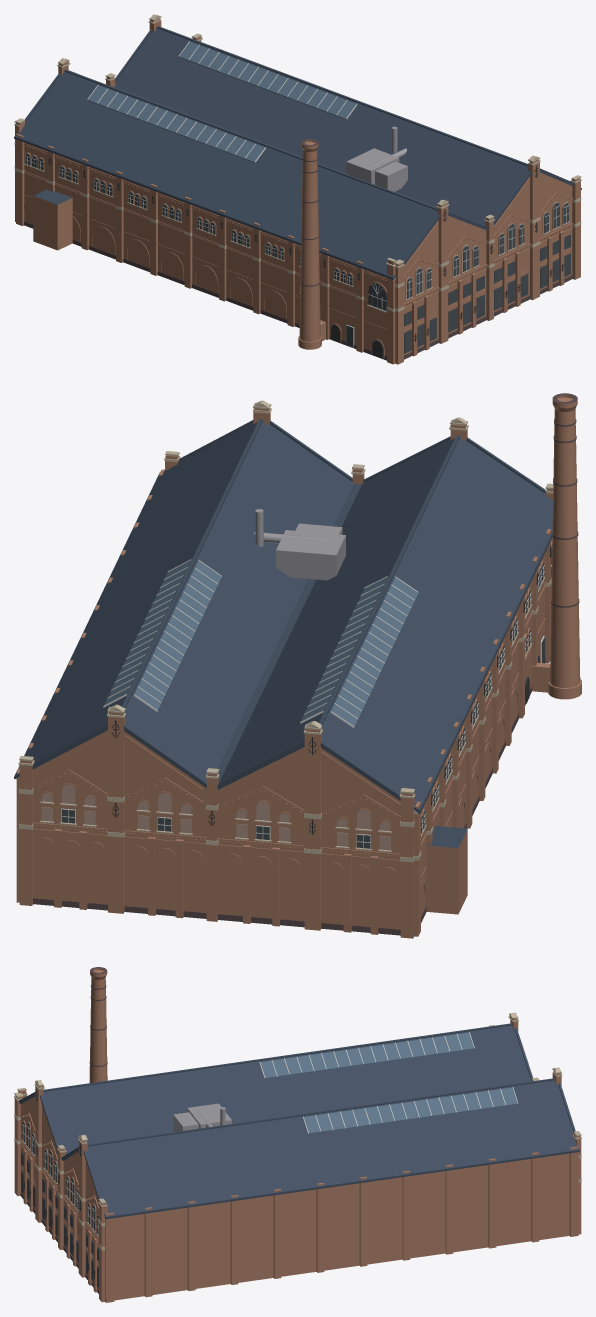
Rendered from sportfondsenbad-oost.glb.
3 views of the same model, one above another, from view 1: azimuth 30°, elevation 25°; view 2: azimuth 150°, elevation 25°; view 3: azimuth 270°, elevation 25° (orthographic). The views are drawn at different scales.
Visible parts, largest first — view 1: sportfondsenbad-oost; view 2: sportfondsenbad-oost; view 3: sportfondsenbad-oost.
Part boxes in pixels (x1,y1,x2,y2): sportfondsenbad-oost: (14, 14, 581, 364); sportfondsenbad-oost: (14, 393, 581, 938); sportfondsenbad-oost: (14, 967, 581, 1302).
Bounding box in the file's own units: 59.65 × 30.55 × 78.61.
